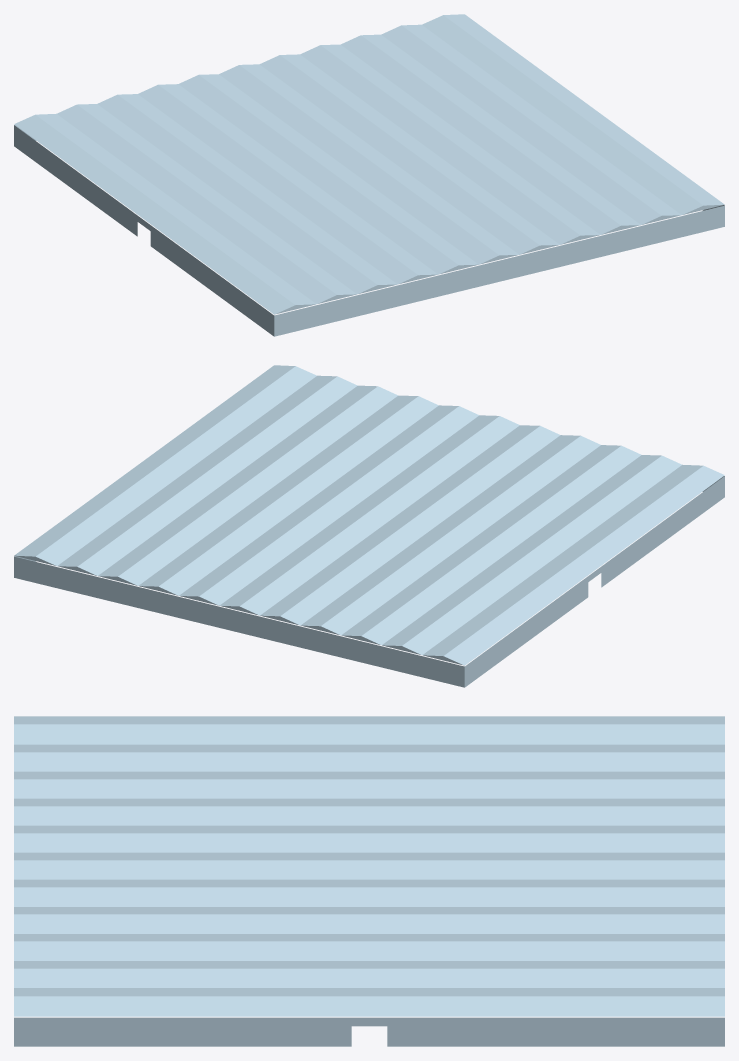
Rendered from glass.obj.
The picture shows the model from 3 angles, top to bottom: view 1: azimuth 30°, elevation 25°; view 2: azimuth 150°, elevation 25°; view 3: azimuth 270°, elevation 25°; orthographic projection. The views are drawn at different scales.
Parts seen in each view (by area): view 1: glass; view 2: glass; view 3: glass.
Part boxes in pixels (<box>): glass: <box>14,14,724,336</box>; glass: <box>14,365,724,687</box>; glass: <box>14,716,724,1046</box>.
Size of the model in its own units: 100 by 5.6 by 100.
